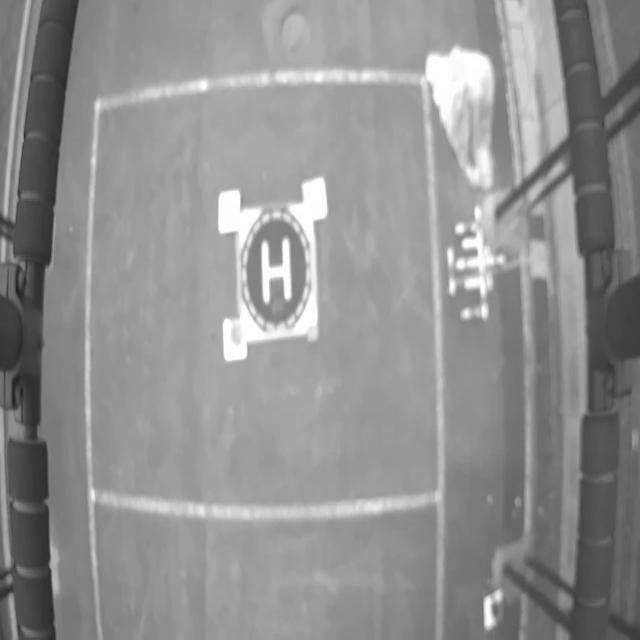Helipad: (260, 239, 292, 303)
